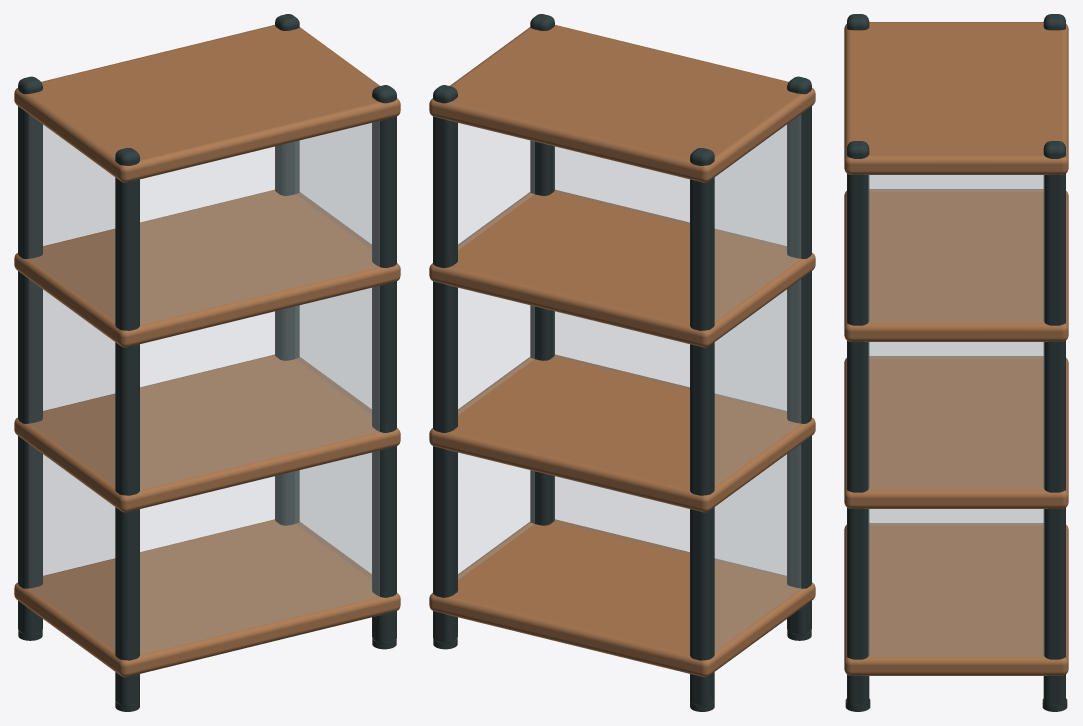
The model's file is glass-case.glb.
The picture shows the model from 3 angles, left to right: view 1: azimuth 30°, elevation 25°; view 2: azimuth 150°, elevation 25°; view 3: azimuth 270°, elevation 25°; orthographic projection.
Parts seen in each view (by area): view 1: glass-case; view 2: glass-case; view 3: glass-case.
Boxes of the visible parts, <box> form: glass-case: <box>14,14,400,711</box>; glass-case: <box>429,14,815,711</box>; glass-case: <box>844,14,1068,711</box>.
Bounding box in the file's own units: 0.95 × 1.8 × 0.65.
